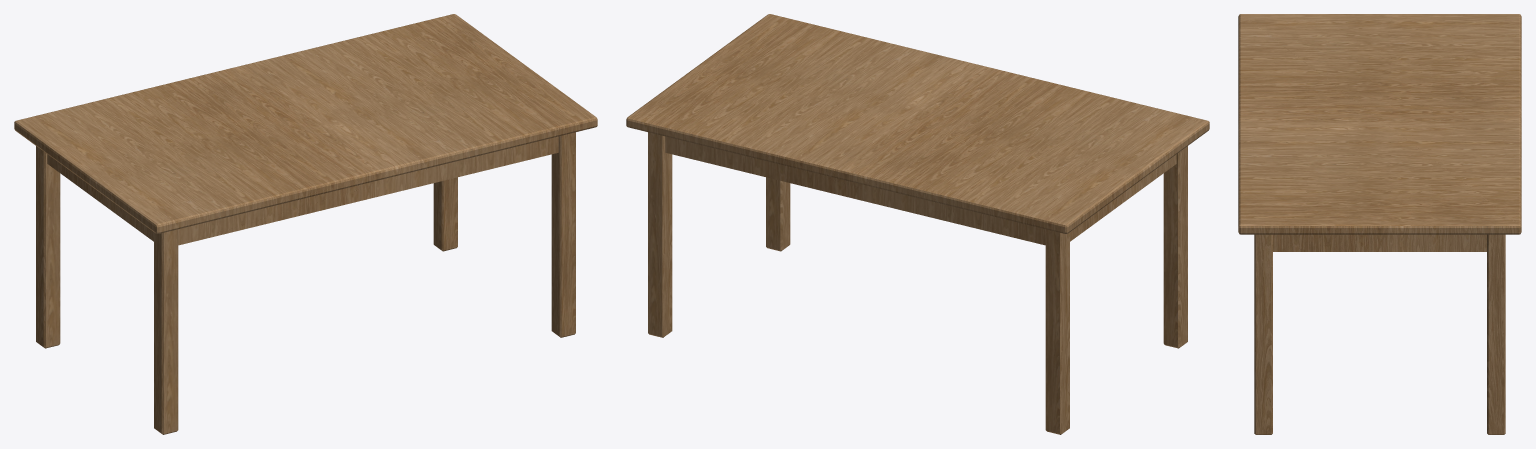
The model's file is dining_table.fbx.
The picture shows the model from 3 angles, left to right: view 1: azimuth 30°, elevation 25°; view 2: azimuth 150°, elevation 25°; view 3: azimuth 270°, elevation 25°; orthographic projection.
Visible parts, largest first — view 1: dining_table; view 2: dining_table; view 3: dining_table.
Part boxes in pixels (x1,y1,x2,y2): dining_table: [14, 14, 597, 434]; dining_table: [626, 14, 1209, 434]; dining_table: [1238, 14, 1521, 434].
Size of what is drawn, in the model's own units: 160 by 76 by 90.
Materials: 1 (1 with a texture image).
